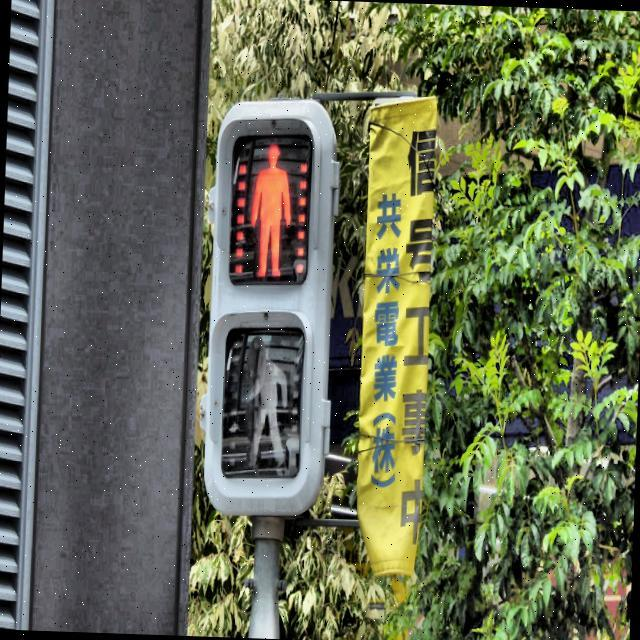red_light: (246, 138, 296, 282)
